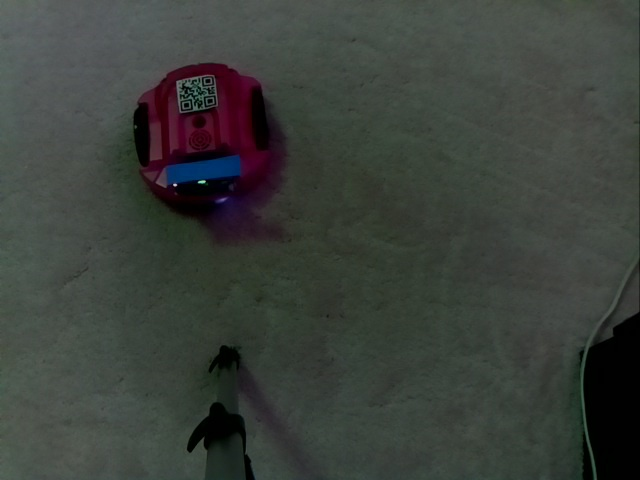board: (155, 150, 239, 201)
chassis: (132, 60, 275, 210)
